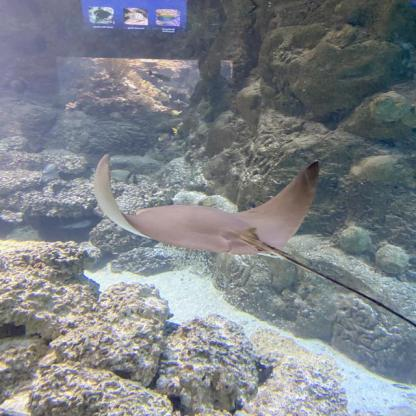stingray: (94, 154, 320, 256)
